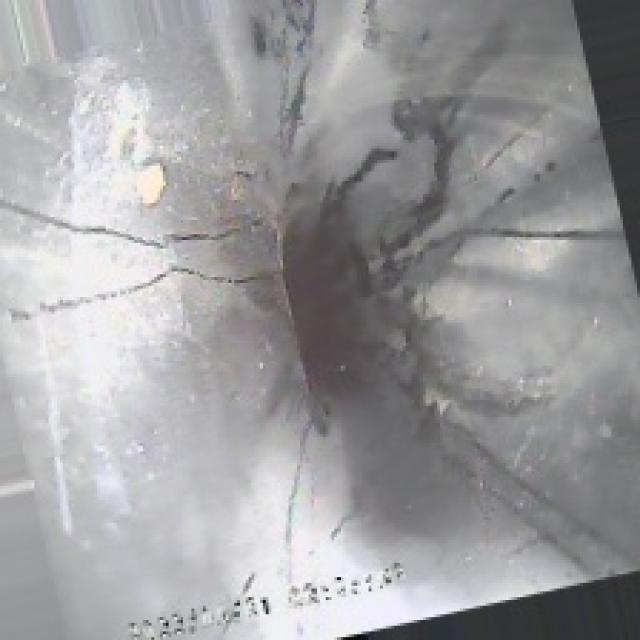shape_deformation: (225, 109, 566, 480)
